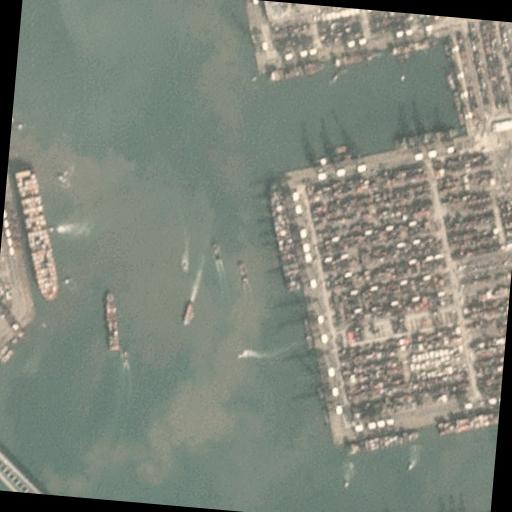ship: (0, 170, 66, 300), (258, 182, 310, 291), (343, 422, 420, 460), (436, 406, 499, 441), (10, 30, 31, 130), (394, 122, 458, 152), (268, 56, 325, 86), (98, 288, 122, 352), (332, 46, 380, 70), (390, 36, 430, 56), (234, 258, 250, 283), (182, 298, 194, 326), (210, 239, 222, 260), (10, 328, 25, 344), (1, 346, 14, 364), (444, 72, 456, 90), (236, 347, 250, 358), (0, 342, 8, 359), (180, 260, 190, 272), (406, 460, 416, 470), (342, 479, 349, 487)
